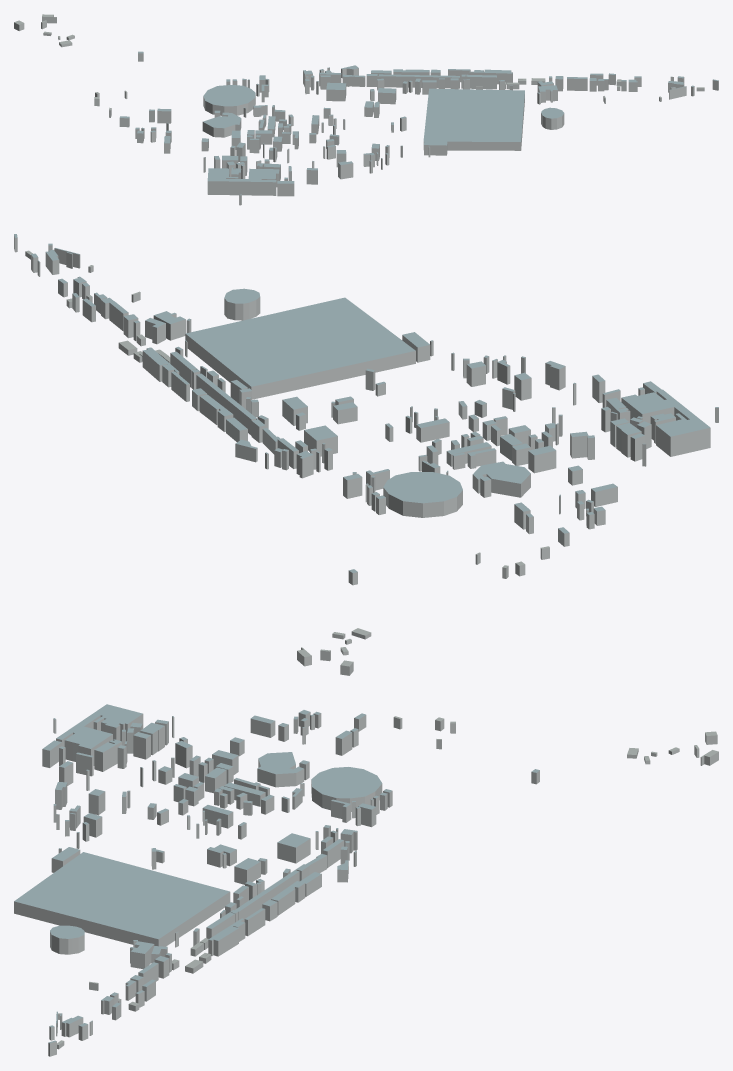
The model's file is far.glb.
3 views of the same model, one above another, from view 1: azimuth 30°, elevation 25°; view 2: azimuth 150°, elevation 25°; view 3: azimuth 270°, elevation 25° (orthographic). The views are drawn at different scales.
Bounding box in the file's own units: 1234 × 36.85 × 1102.
